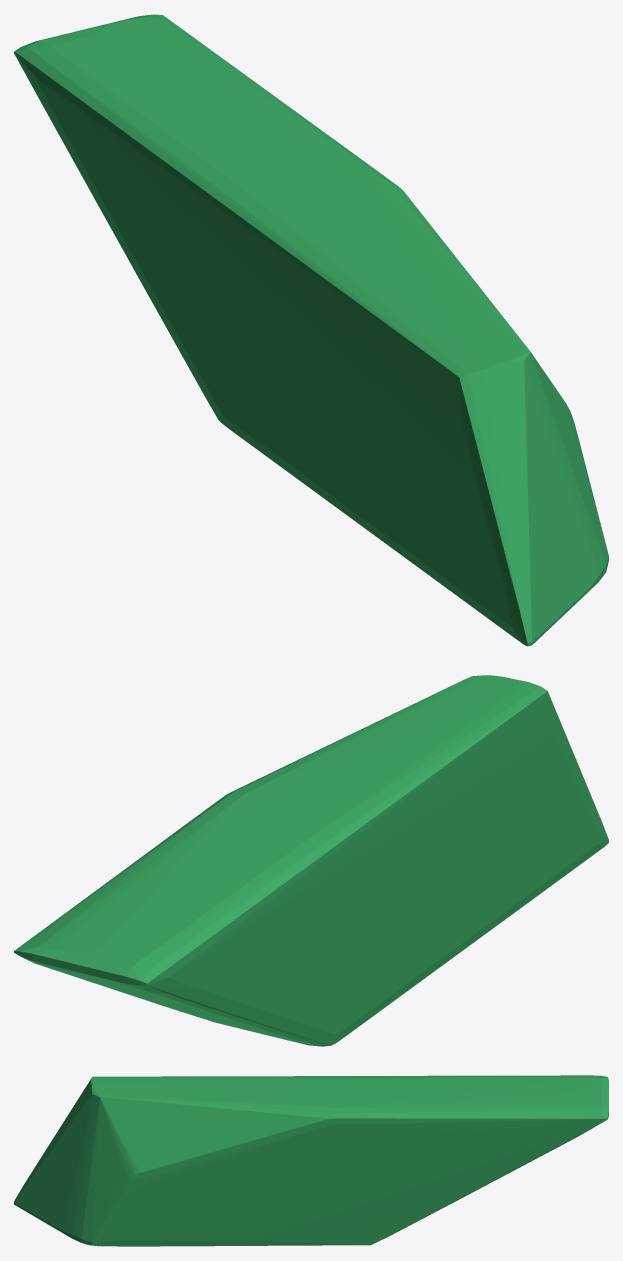
Rendered from left-toe-roll-0_part_10.obj.
3 views of the same model, one above another, from view 1: azimuth 30°, elevation 25°; view 2: azimuth 150°, elevation 25°; view 3: azimuth 270°, elevation 25° (orthographic). The views are drawn at different scales.
Size of the model in its own units: 0.0235 by 0.0352 by 0.1384.
